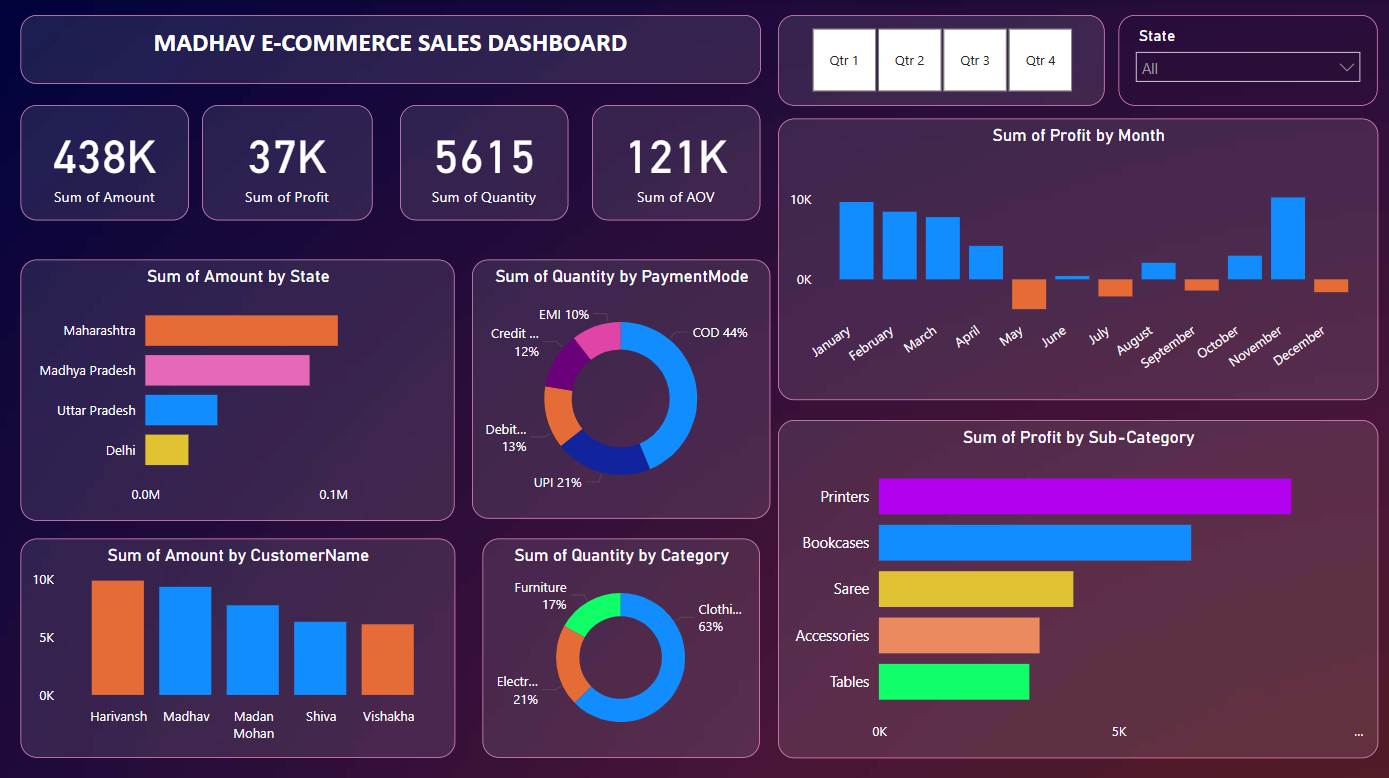

What the dashboard file says about the page in this screenshot:
{"tool":"powerbi","page":{"name":"Page 1","canvas":[1280,720],"ordinal":0},"visuals":[{"type":"textbox","box":[21.2,13.6,679.9,63.6],"z":0},{"type":"columnChart","fields":{"Y":["Details.Profit"],"Category":["Orders.Order Date.Variation.Date Hierarchy.Month"]},"box":[716.2,109,551.2,258.9],"z":1000},{"type":"barChart","fields":{"Category":["Details.Sub-Category"],"Y":["Details.Profit"]},"box":[716.2,386.1,551.2,310.4],"z":2000},{"type":"donutChart","fields":{"Category":["Details.Category"],"Y":["Details.Quantity"]},"box":[445.2,495.1,254.4,201.4],"z":3000},{"type":"donutChart","fields":{"Category":["Details.PaymentMode"],"Y":["Details.Quantity"]},"box":[434.6,238.1,274,238.1],"z":4000},{"type":"card","fields":{"Values":["Details.Amount"]},"box":[20.8,96.4,155,105.8],"z":5000},{"type":"card","fields":{"Values":["Details.Quantity"]},"box":[368.5,96.4,155,105.8],"z":6000},{"type":"card","fields":{"Values":["Details.Profit"]},"box":[187.1,96.4,156.9,105.8],"z":7000},{"type":"card","fields":{"Values":["Details.AOV"]},"box":[546.1,96.4,155,105.8],"z":8000},{"type":"barChart","fields":{"Category":["Orders.State"],"Y":["Details.Amount"]},"box":[20.8,238.1,398.7,240],"z":9000},{"type":"columnChart","fields":{"Category":["Orders.CustomerName"],"Y":["Details.Amount"]},"box":[21,495,399,201],"z":10000},{"type":"slicer","fields":{"Values":["Orders.Order Date.Variation.Date Hierarchy.Quarter"]},"box":[716.2,13.6,299.8,83.3],"z":11000},{"type":"slicer","fields":{"Values":["Orders.State"]},"box":[1029.7,13.6,237.7,83.3],"z":12000}]}

Visuals, with their boxes in screenshot pixels (x1, y1, x2, y2), scaled from the page's 1280x720 canvas onto the 1389x778 screenshot:
textbox: (left=23, top=15, right=761, bottom=83)
columnChart - Details.Profit x Orders.Order Date.Variation.Date Hierarchy.Month: (left=777, top=118, right=1375, bottom=398)
barChart - Details.Sub-Category x Details.Profit: (left=777, top=417, right=1375, bottom=753)
donutChart - Details.Category x Details.Quantity: (left=483, top=535, right=759, bottom=753)
donutChart - Details.PaymentMode x Details.Quantity: (left=472, top=257, right=769, bottom=515)
card - Details.Amount: (left=23, top=104, right=191, bottom=218)
card - Details.Quantity: (left=400, top=104, right=568, bottom=218)
card - Details.Profit: (left=203, top=104, right=373, bottom=218)
card - Details.AOV: (left=593, top=104, right=761, bottom=218)
barChart - Orders.State x Details.Amount: (left=23, top=257, right=455, bottom=517)
columnChart - Orders.CustomerName x Details.Amount: (left=23, top=535, right=456, bottom=752)
slicer - Orders.Order Date.Variation.Date Hierarchy.Quarter: (left=777, top=15, right=1103, bottom=105)
slicer - Orders.State: (left=1117, top=15, right=1375, bottom=105)
